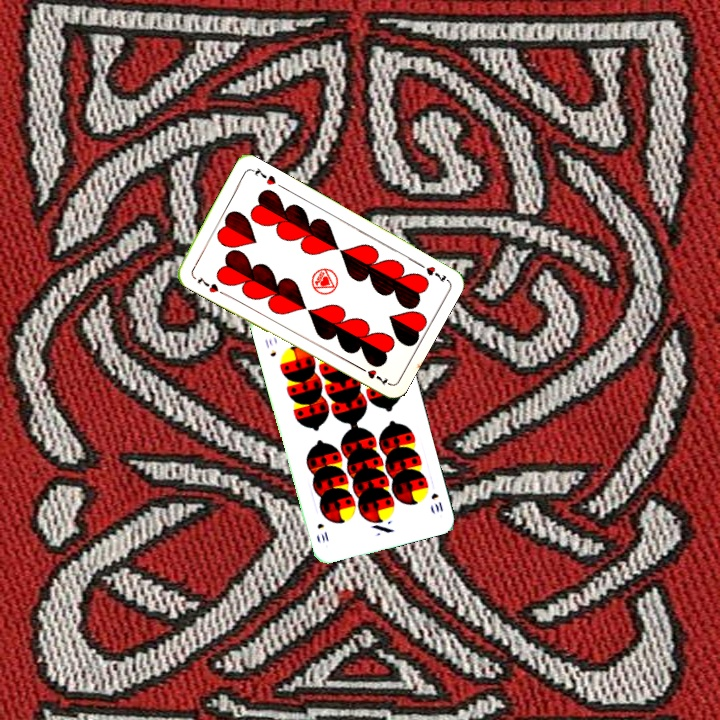H7: (413, 258, 450, 285), (193, 272, 221, 295)
S10: (427, 489, 446, 515), (261, 335, 279, 359)
